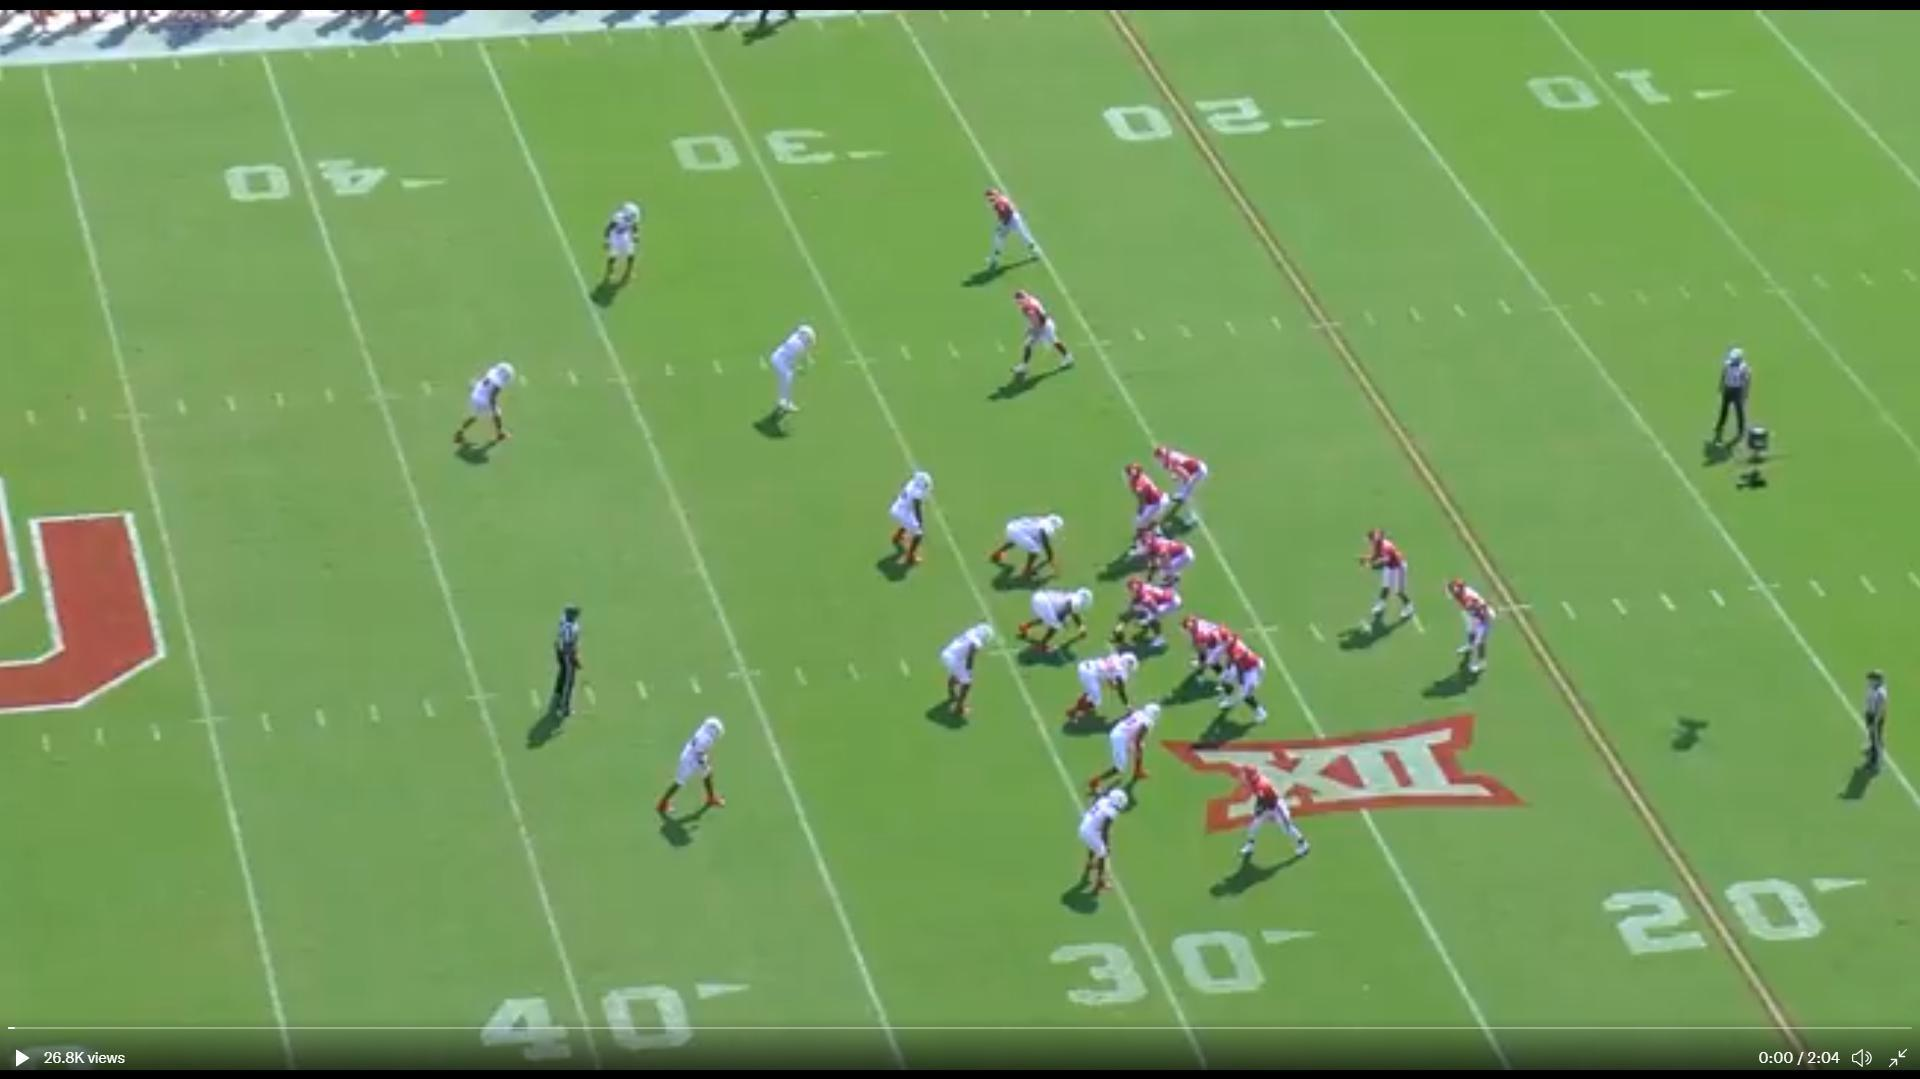player: (998, 286, 1085, 393), (650, 710, 728, 822), (1085, 699, 1166, 801), (1234, 763, 1314, 866), (761, 317, 825, 436), (973, 182, 1053, 276), (1058, 645, 1141, 735), (1357, 525, 1422, 638), (1071, 779, 1131, 900), (936, 618, 999, 730), (454, 358, 522, 460), (987, 510, 1071, 588), (1213, 630, 1274, 735), (885, 466, 940, 579), (1014, 585, 1095, 660), (595, 196, 646, 307), (1154, 438, 1212, 534), (1449, 574, 1499, 684), (1120, 575, 1186, 654), (1138, 527, 1200, 609), (1178, 613, 1237, 699), (1125, 461, 1178, 546)
ref: (530, 597, 590, 754), (1706, 342, 1755, 462), (1860, 662, 1889, 770)
